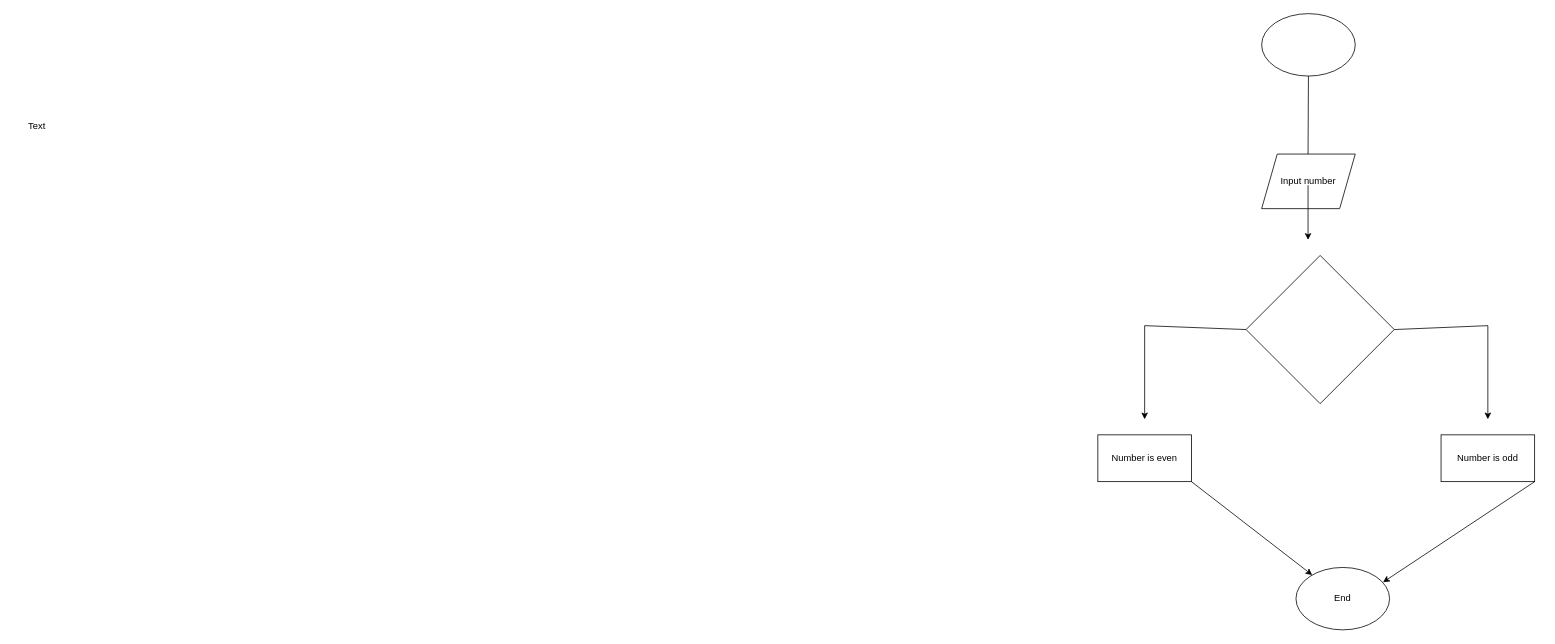
The diagram is 1555 pixels wide and 644 high, and some of its shapes have lost their labels. Each missing label, with the box of its shape:
Check if the number is even or odd: (1245, 255, 1394, 404)
Start: (1261, 13, 1355, 76)
